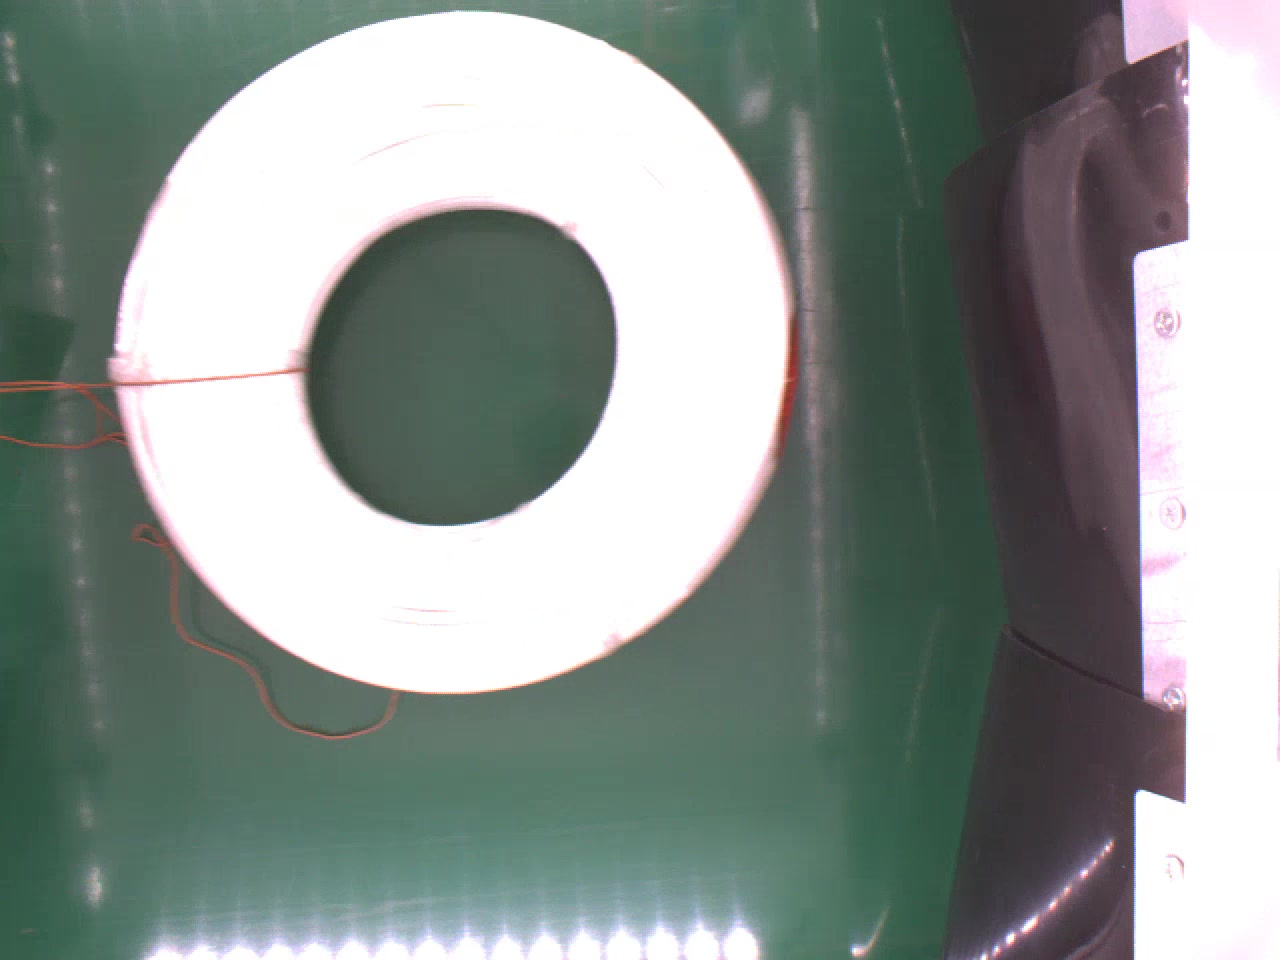white: (108, 10, 801, 694)
